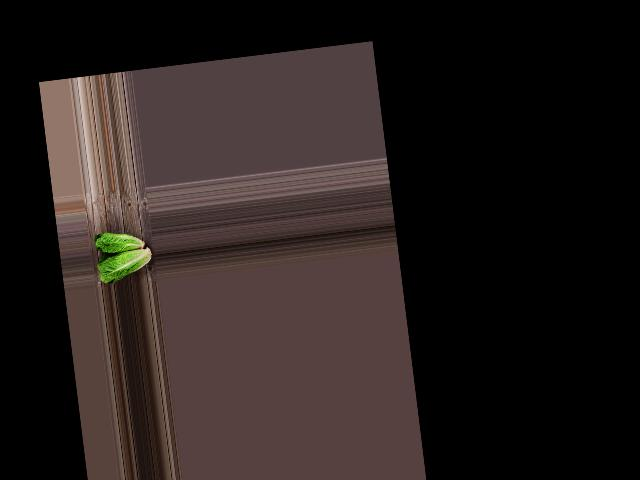lettuce: (94, 246, 157, 286)
